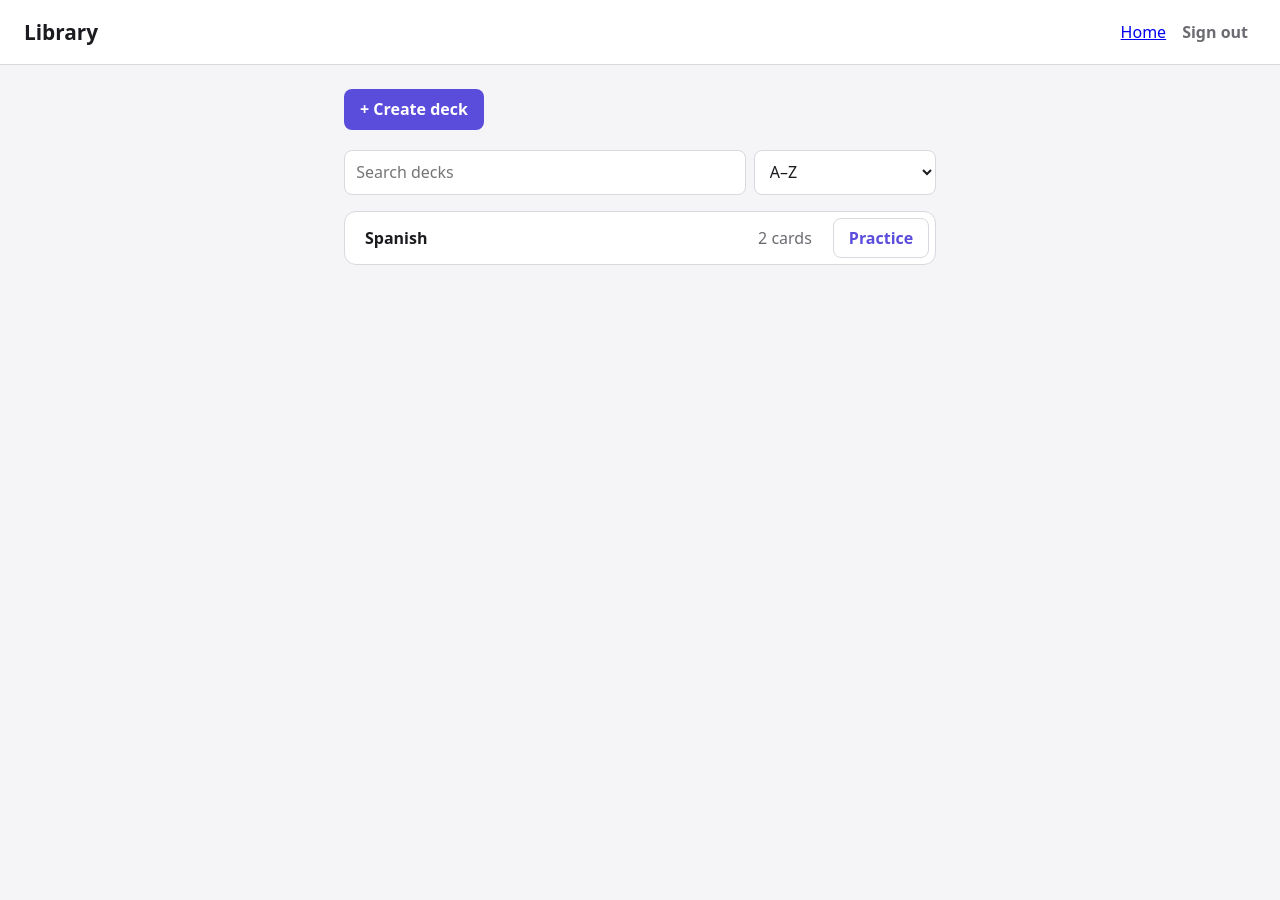
Test: LibraryPage › deck actions sheet › opens the actions sheet rather than navigating to Edit
The width and height of the screenshot is (1280, 900).
Click the button "Spanish 2 cards": (396, 238) left=351, top=218, right=825, bottom=258
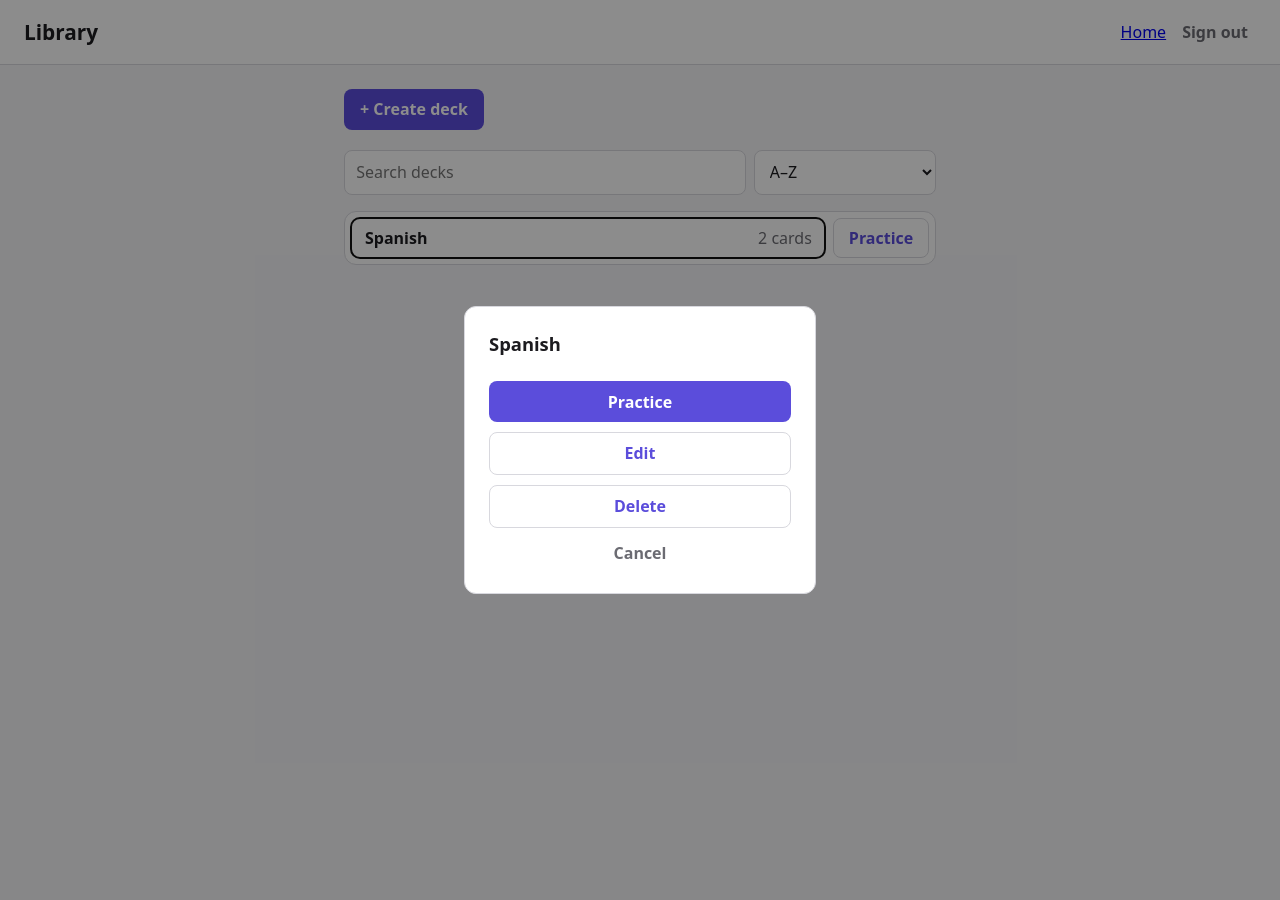
Now the dialog named "Actions for Spanish" is shown
Now the button "Edit" is shown, box left=489, top=432, right=791, bottom=475
